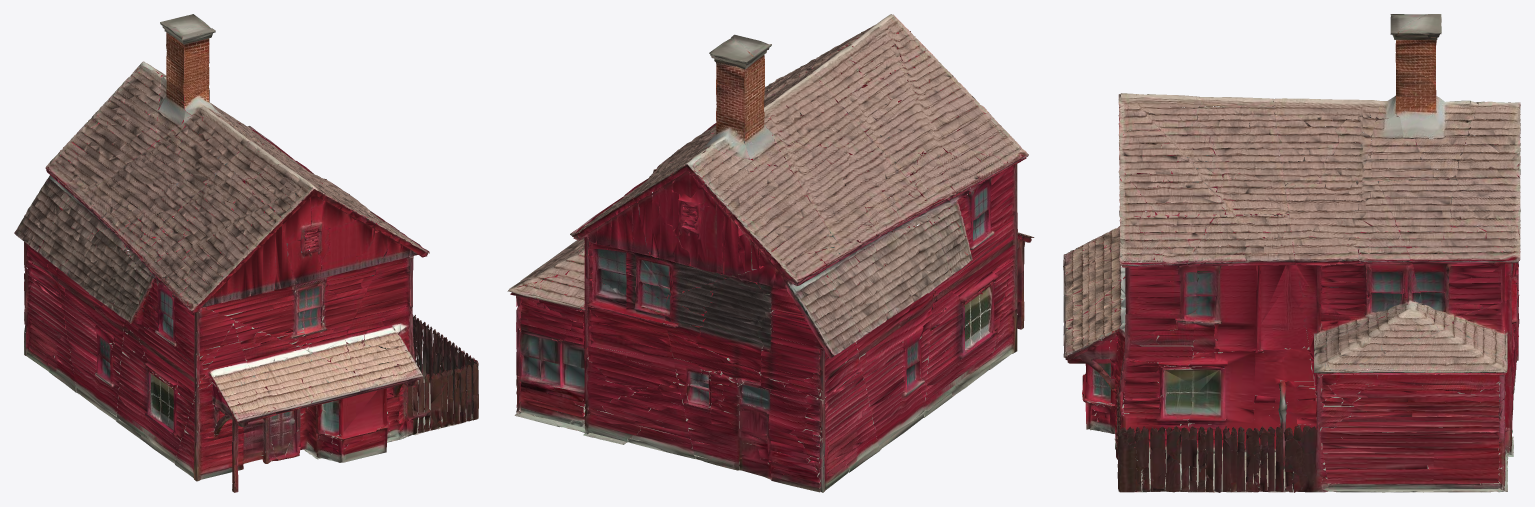
The model's file is bldg-printshop.glb.
3 views of the same model, side by side, from view 1: azimuth 30°, elevation 25°; view 2: azimuth 150°, elevation 25°; view 3: azimuth 270°, elevation 25° (orthographic). The views are drawn at different scales.
Parts seen in each view (by area): view 1: Mesh_0; view 2: Mesh_0; view 3: Mesh_0.
Part boxes in pixels (x1=…): Mesh_0: x1=14, y1=14, x2=478, y2=492; Mesh_0: x1=507, y1=14, x2=1034, y2=492; Mesh_0: x1=1063, y1=14, x2=1520, y2=492.
Size of the model in its own units: 1.63 by 1.75 by 1.9.
Materials: 1 (1 with a texture image).
